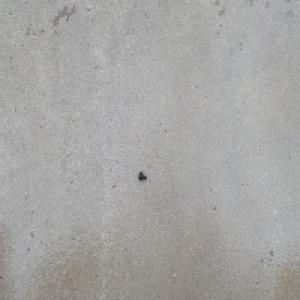BoltWasher: (138, 170, 147, 182)
